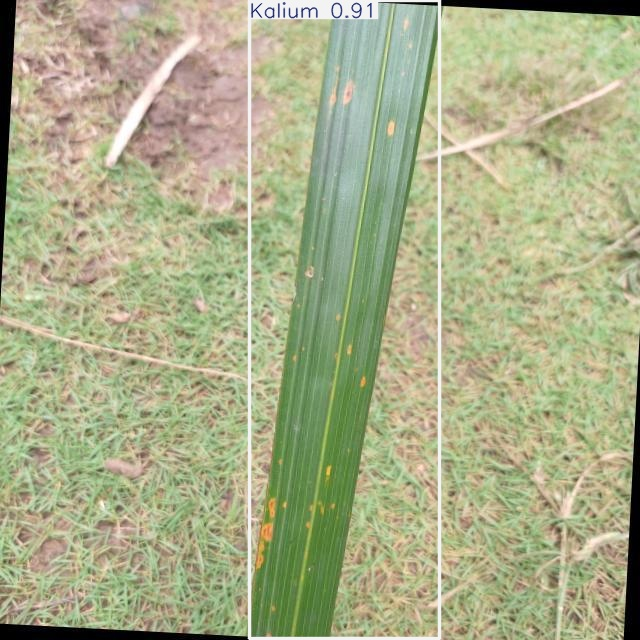Kalium: (249, 0, 439, 639)
